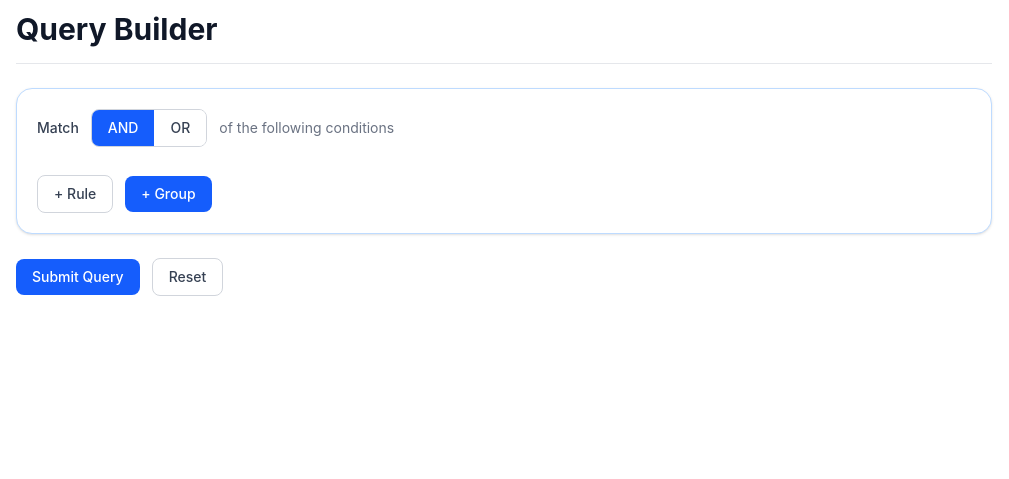
Test: QueryBuilder › adds a nested group when clicking + Group
The image size is (1009, 479).
Step 1. Click the button with test id "add-group-depth-0" → (168, 194), box [125, 176, 212, 212]
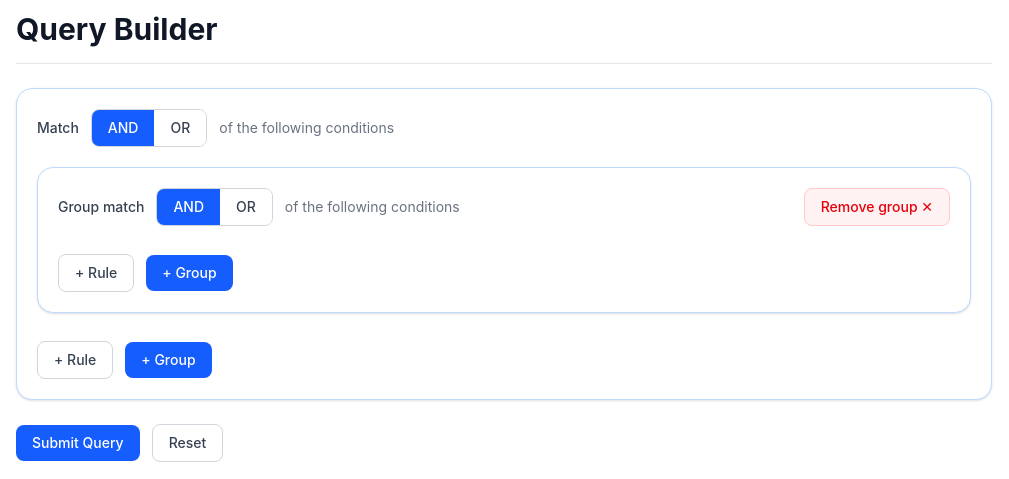
Result: the element with test id "rule-group-depth-1" is shown at [37, 167, 971, 313]
Result: the text "Group match" is shown at [58, 197, 144, 217]
